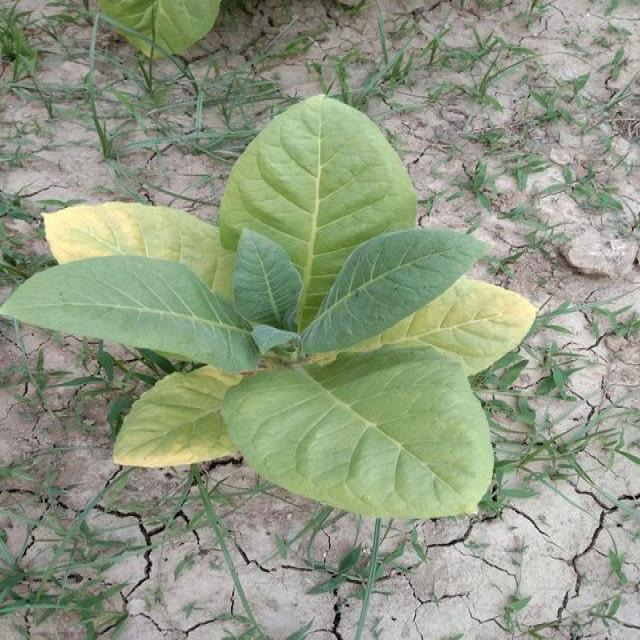crop: (5, 91, 536, 520)
